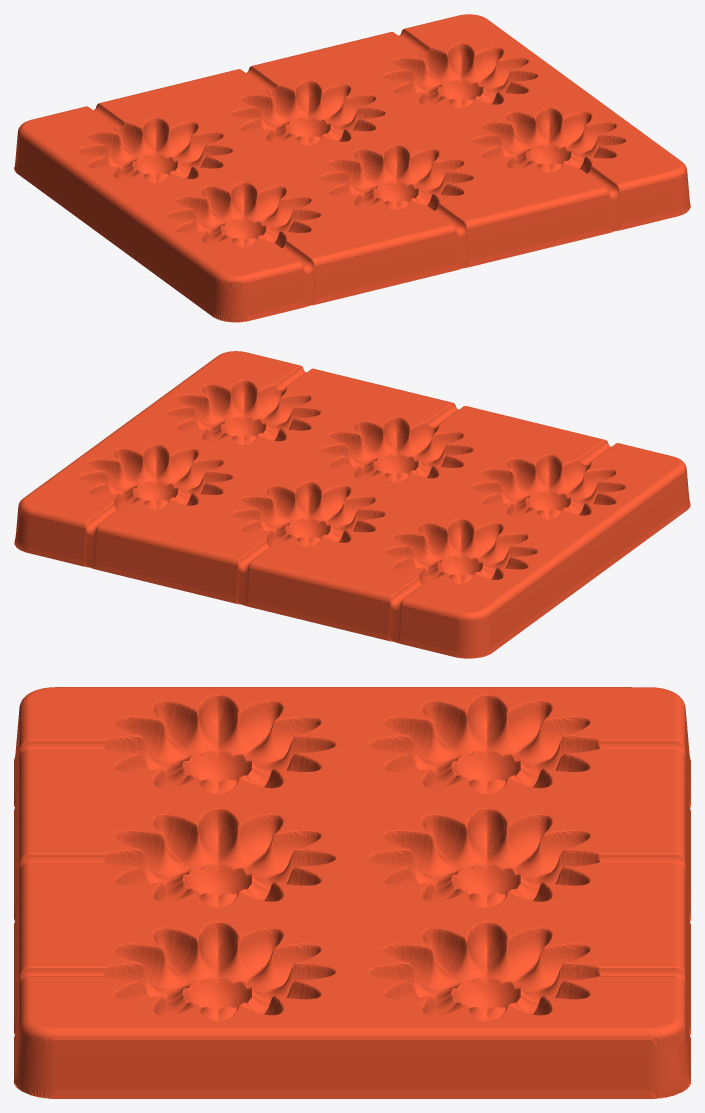
The model's file is mold.glb.
3 renders of one model, top to bottom at view 1: azimuth 30°, elevation 25°; view 2: azimuth 150°, elevation 25°; view 3: azimuth 270°, elevation 25°, orthographic. The views are drawn at different scales.
Parts seen in each view (by area): view 1: geometry_0; view 2: geometry_0; view 3: geometry_0.
Part boxes in pixels (left/top/right/bottom): geometry_0: left=14, top=14, right=690, bottom=322; geometry_0: left=14, top=351, right=690, bottom=658; geometry_0: left=14, top=687, right=690, bottom=1098.
Bounding box in the file's own units: 0.1824 × 0.0155 × 0.1477.
